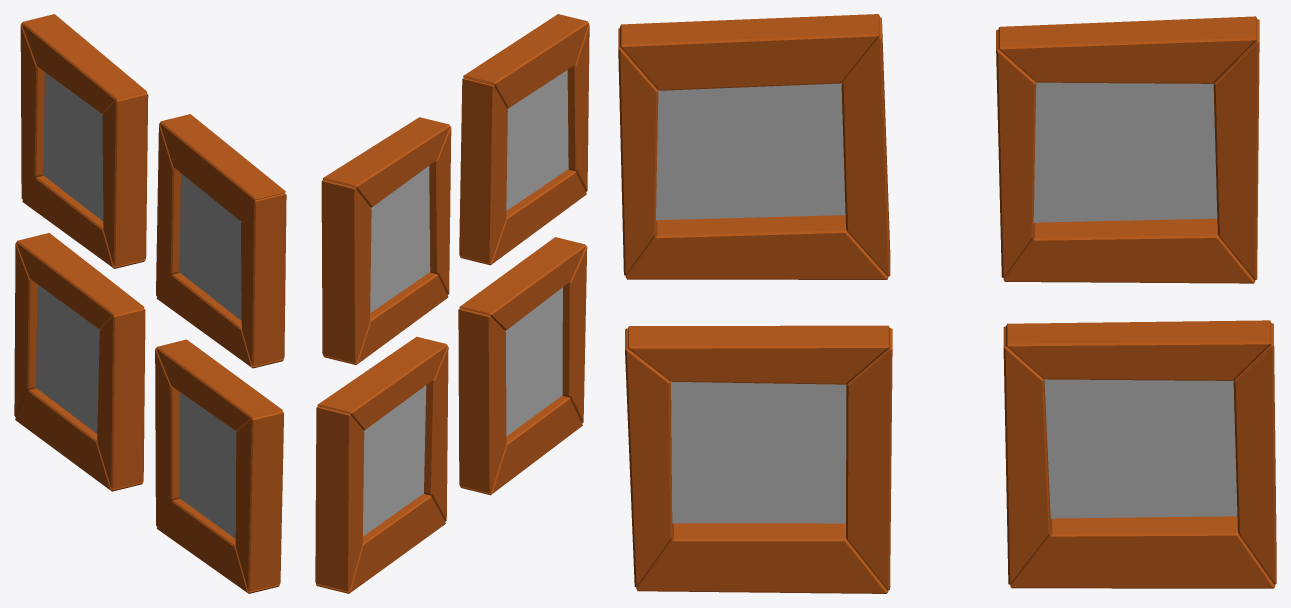
File: Picture_02.glb
3 renders of one model, left to right at view 1: azimuth 30°, elevation 25°; view 2: azimuth 150°, elevation 25°; view 3: azimuth 270°, elevation 25°, orthographic. The views are drawn at different scales.
Parts seen in each view (by area): view 1: Picture2; view 2: Picture2; view 3: Picture2.
Boxes of the visible parts, <box> form: Picture2: <box>14,14,286,593</box>; Picture2: <box>315,14,589,593</box>; Picture2: <box>618,14,1276,593</box>.
Size of the model in its own units: 0.058 by 0.6573 by 0.6999.
